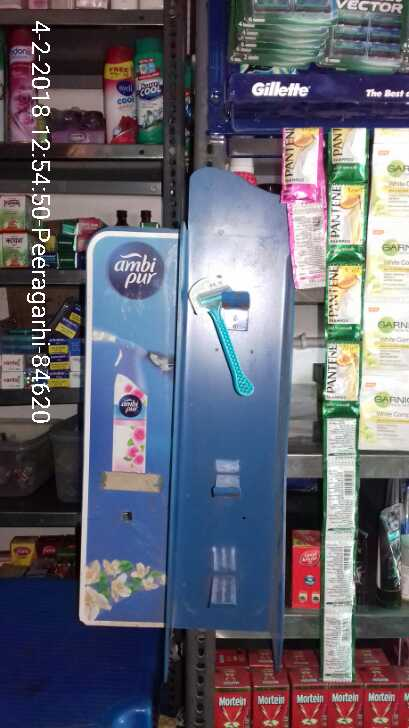beauty: (278, 124, 321, 197), (324, 256, 364, 329), (329, 335, 359, 425), (329, 181, 359, 246)
